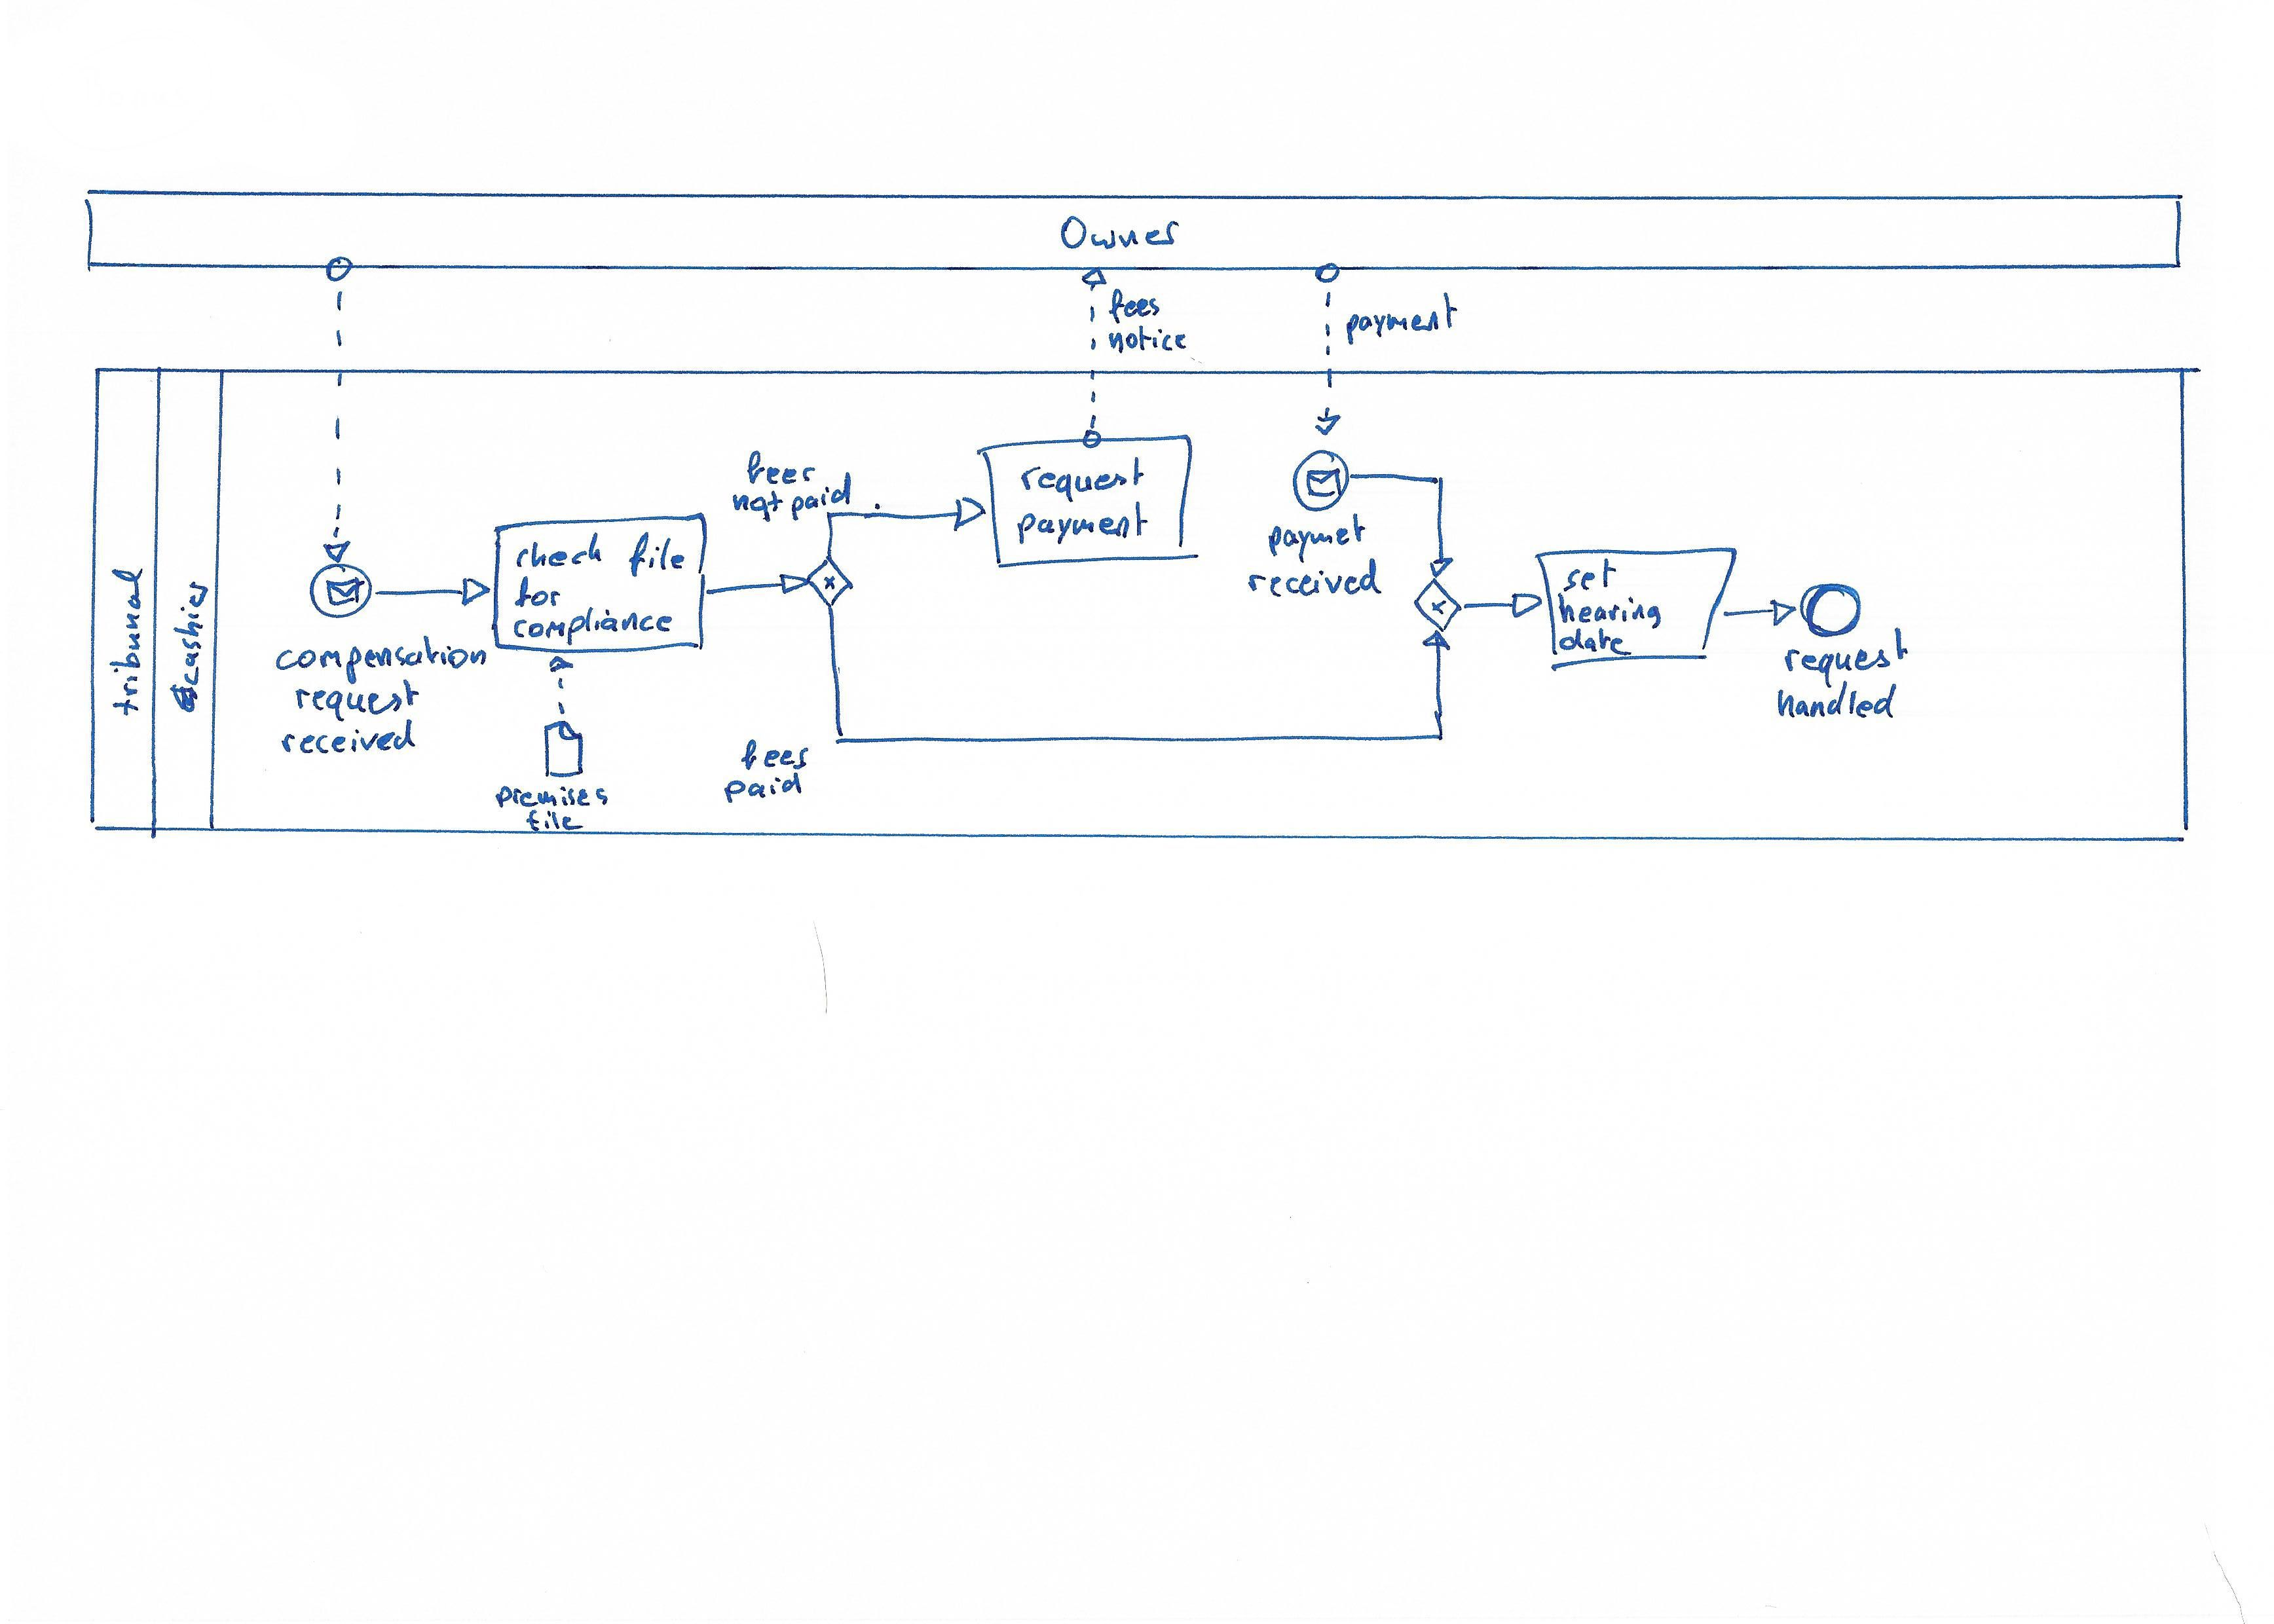Owner: (1056, 211, 1184, 255)
cashier: (170, 578, 213, 689)
check: (511, 527, 606, 573)
compensation: (271, 631, 492, 689)
compliance: (510, 601, 677, 650)
date: (1553, 622, 1636, 661)
fees: (743, 446, 821, 489), (738, 736, 814, 775), (1104, 285, 1163, 329)
file: (624, 527, 689, 584), (522, 807, 587, 833)
for: (510, 571, 566, 613)
handled: (1773, 677, 1901, 722)
hearing: (1555, 589, 1666, 634)
not: (728, 485, 787, 526)
notice: (1104, 322, 1191, 359)
paid: (787, 468, 856, 524), (721, 770, 807, 807)
payment: (1341, 288, 1464, 352), (1010, 497, 1153, 550)
paymet: (1265, 508, 1369, 568)
premises: (490, 782, 612, 812)
received: (1244, 555, 1388, 601), (278, 714, 420, 759)
request: (1780, 624, 1912, 691), (290, 673, 424, 726), (1016, 453, 1149, 506)
set: (1559, 554, 1624, 598)
tribunal: (105, 564, 148, 721)
